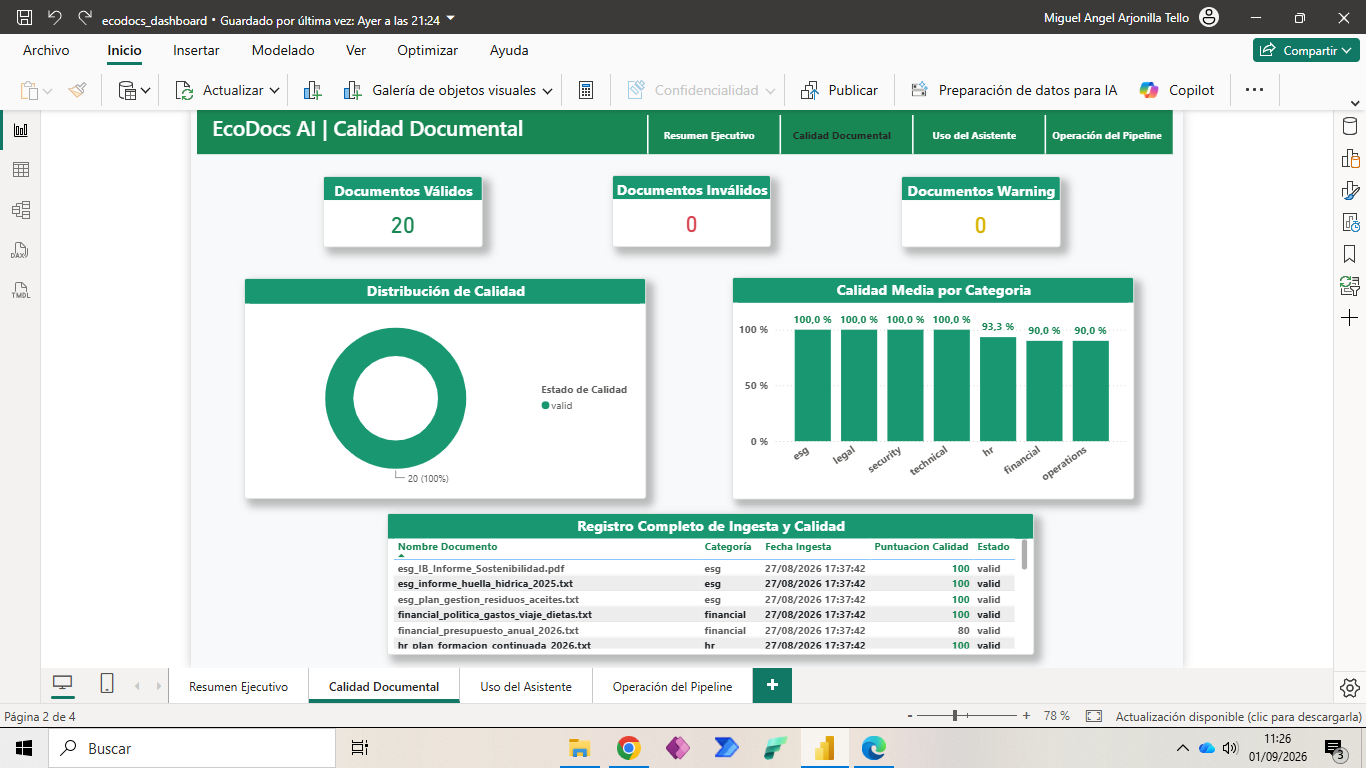

What the dashboard file says about the page in this screenshot:
{"tool":"powerbi","page":{"name":"Calidad Documental","canvas":[1280,720],"ordinal":1},"visuals":[{"type":"textbox","box":[7.7,0,1259.4,56.8],"z":0},{"type":"pageNavigator","box":[588.4,6.5,674.8,50.3],"z":1000},{"type":"card","title":"Documentos Válidos","fields":{"Values":["_Medidas.Docs_Validos"]},"box":[170.1,85,205.5,92.1],"z":2000},{"type":"card","title":"Documentos Inválidos","fields":{"Values":["_Medidas.Docs_Invalidos"]},"box":[543.1,83.6,205,92.7],"z":3000},{"type":"card","title":"Documentos Warning","fields":{"Values":["_Medidas.Docs_Warning"]},"box":[915.6,85,205.5,92.1],"z":4000},{"type":"donutChart","title":"Distribución de Calidad","fields":{"Category":["silver_documents.quality_status"],"Y":["_Medidas.Total_Documentos"]},"box":[68.5,216.9,519.4,285.4],"z":5000},{"type":"clusteredColumnChart","title":"Calidad Media por Categoria","fields":{"Y":["_Medidas.Calidad_Media"],"Category":["silver_documents.document_category"]},"box":[697.8,215.5,519.4,286.8],"z":6000},{"type":"tableEx","title":"Registro Completo de Ingesta y Calidad","fields":{"Values":["silver_documents.file_name","silver_documents.document_category","silver_documents.extraction_date","silver_documents.quality_score","silver_documents.quality_status"]},"box":[252.3,520.2,834.8,182.8],"z":7000}]}

Visuals, with their boxes on the page's 1280x720 design canvas (x1, y1, x2, y2). These are canvas units, not pixel positions in the 1366x768 screenshot, which may show the page scaled, cropped or inside an application window:
textbox: (8, 0, 1267, 57)
pageNavigator: (588, 6, 1263, 57)
"Documentos Válidos" card: (170, 85, 376, 177)
"Documentos Inválidos" card: (543, 84, 748, 176)
"Documentos Warning" card: (916, 85, 1121, 177)
"Distribución de Calidad" donutChart: (68, 217, 588, 502)
"Calidad Media por Categoria" clusteredColumnChart: (698, 216, 1217, 502)
"Registro Completo de Ingesta y Calidad" tableEx: (252, 520, 1087, 703)
